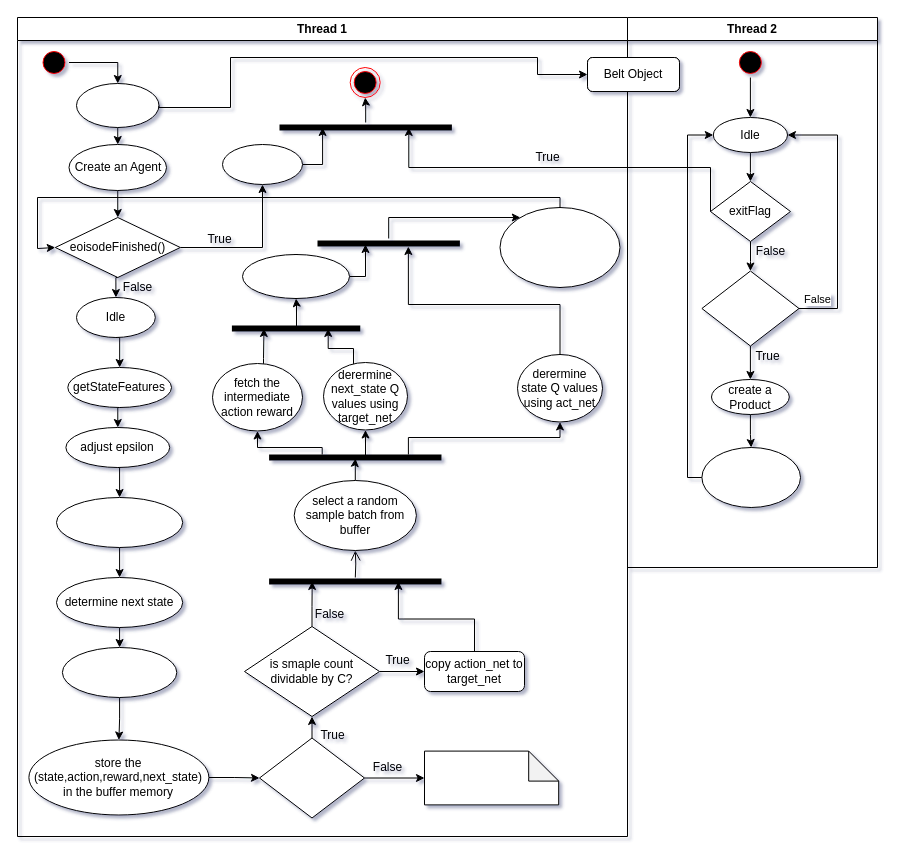
Some shapes in this 901 by 860 pixel diagram are drawn without their labels. Each missing label, with the centre of its shape:
"add the Product to Belt" belongs at (750,477).
"belt.isEmpty()" belongs at (750,308).
"calculate step reward" belongs at (119,672).
"choose action considering epsilon" belongs at (119,522).
"Compute loss based on Q-learning and update act_net" belongs at (559,247).
"compute target Q values" belongs at (296,276).
"Create a Belt" belongs at (117,105).
"exitFlag=True" belongs at (262,164).
"Go back to episode loop" belongs at (491,777).
"has enough samples?" belongs at (311,777).
